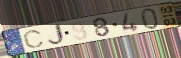0: (140, 7, 161, 31)
4: (121, 10, 140, 33)
8: (92, 17, 112, 38)
9: (71, 21, 89, 41)
C: (22, 29, 46, 49)
J: (46, 22, 67, 46)
